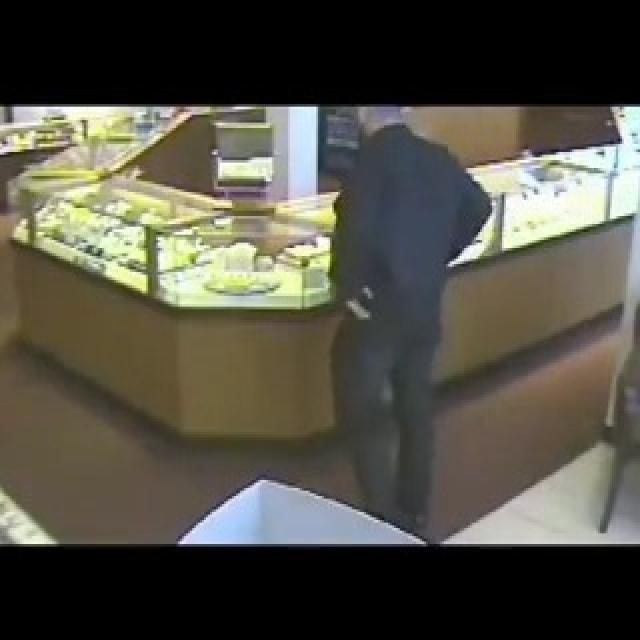Normal: (327, 105, 526, 544)
